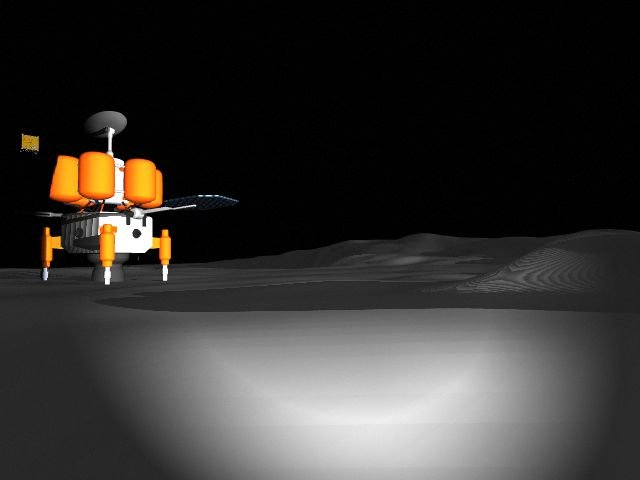cubesat: (17, 129, 43, 158)
